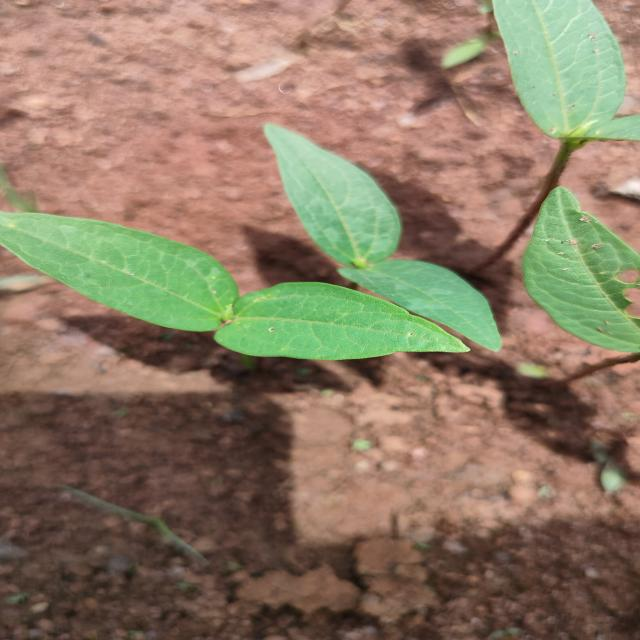Black gram_healthy: (0, 208, 233, 339), (488, 0, 633, 144), (210, 280, 465, 360), (264, 122, 400, 267)
